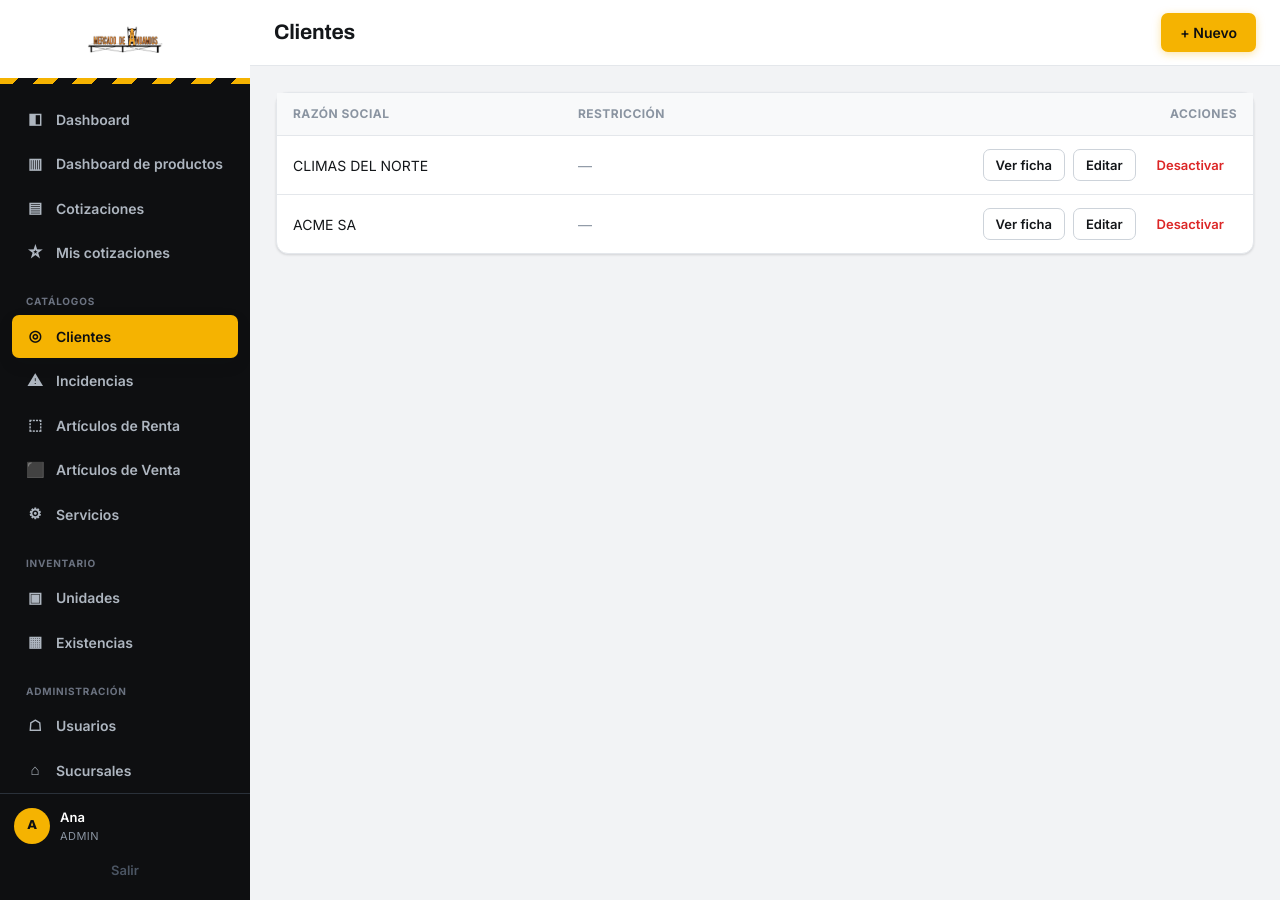
Scenario: AdminCRUD — campos solo de ADMIN › un ADMIN sí puede editarlo
Click the button "+ Nuevo": (1209, 32) [1161,13,1256,52]
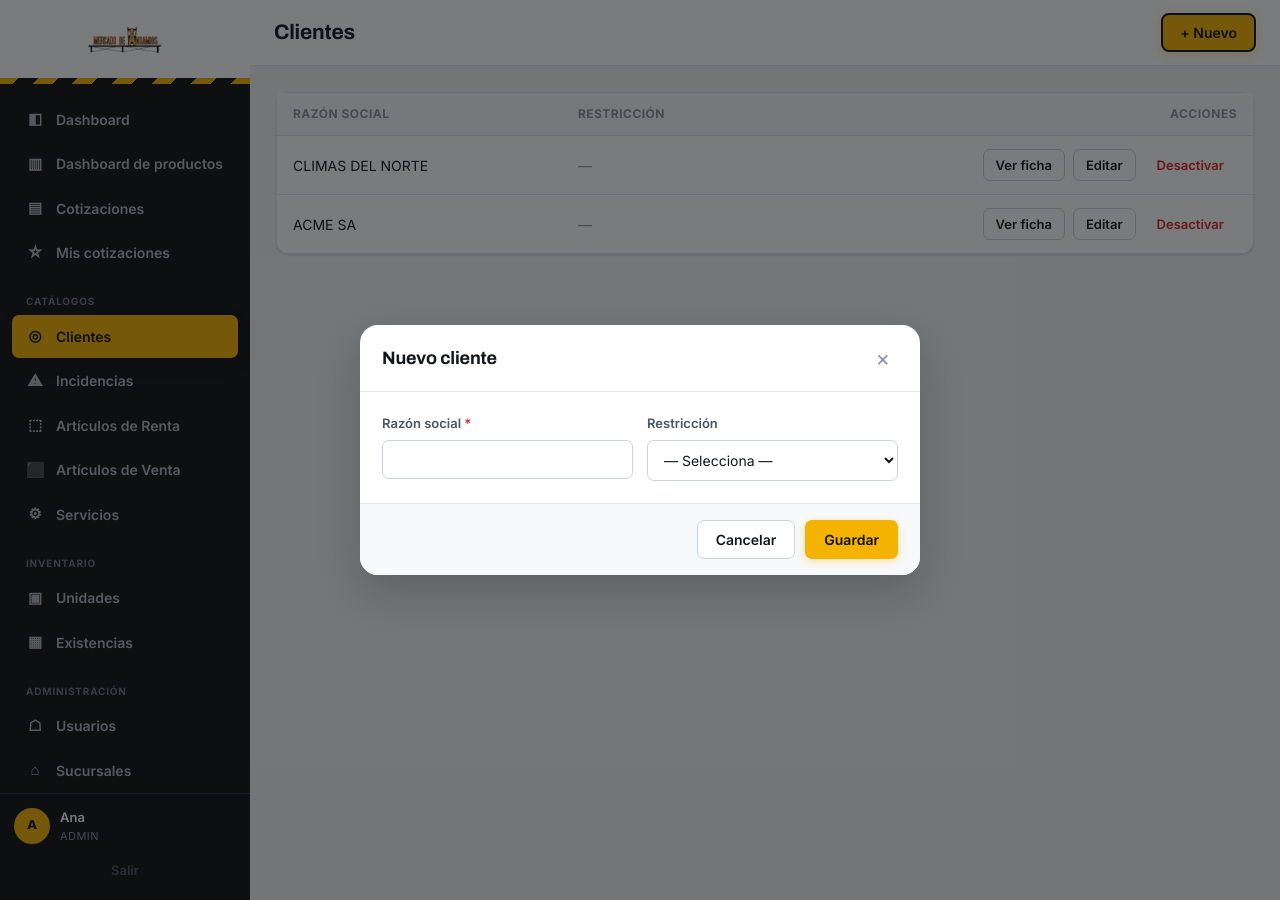
Check: the dropdown labelled "Restricción" is shown, box [647,440,898,481]
